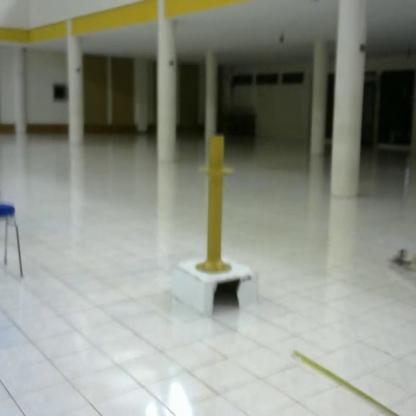pole: (193, 134, 234, 276)
